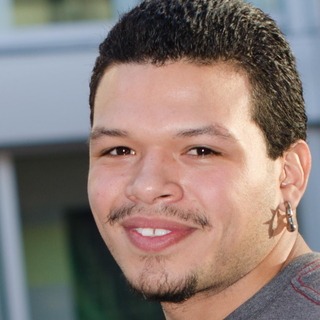eye: (178, 140, 227, 164), (96, 140, 140, 164)
